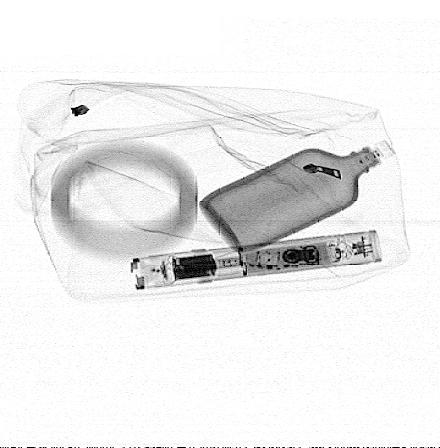Baton: (129, 228, 385, 290)
